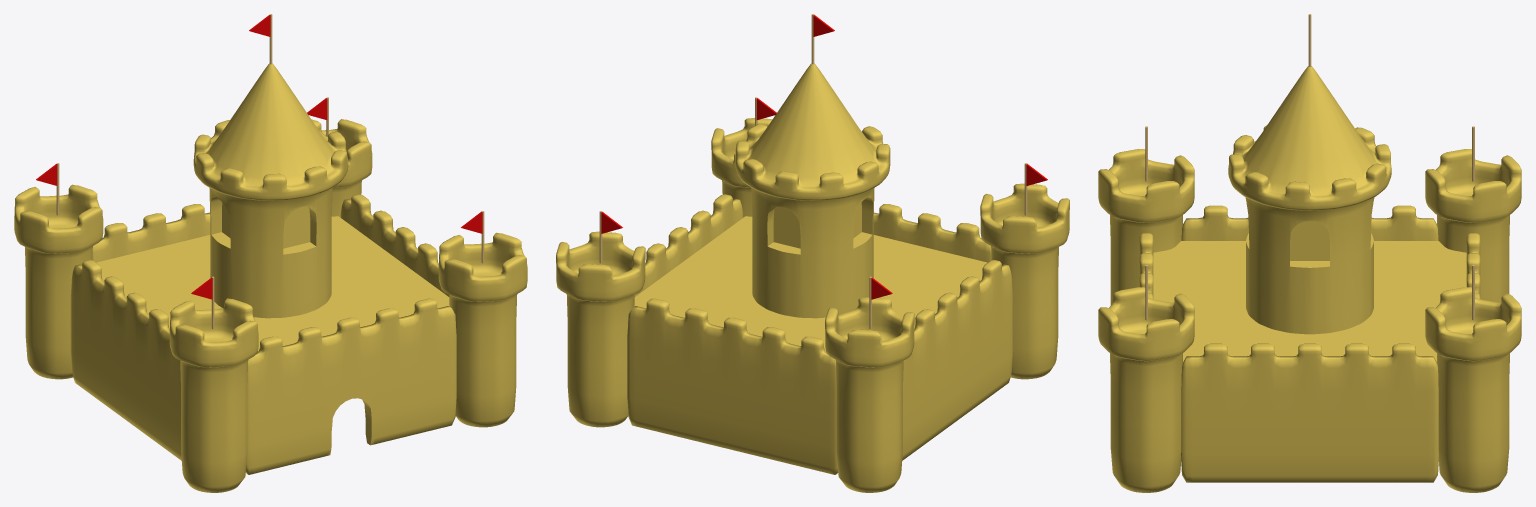
File: SandCastle.fbx
3 views of the same model, side by side, from view 1: azimuth 30°, elevation 25°; view 2: azimuth 150°, elevation 25°; view 3: azimuth 270°, elevation 25° (orthographic). The views are drawn at different scales.
Visible parts, largest first — view 1: SandCastle1; view 2: SandCastle1; view 3: SandCastle1.
Part boxes in pixels (x1,y1,x2,y2): SandCastle1: (14, 14, 527, 492); SandCastle1: (556, 14, 1069, 492); SandCastle1: (1098, 14, 1521, 492).
Size of the model in its own units: 1.97 by 2.04 by 1.97.
